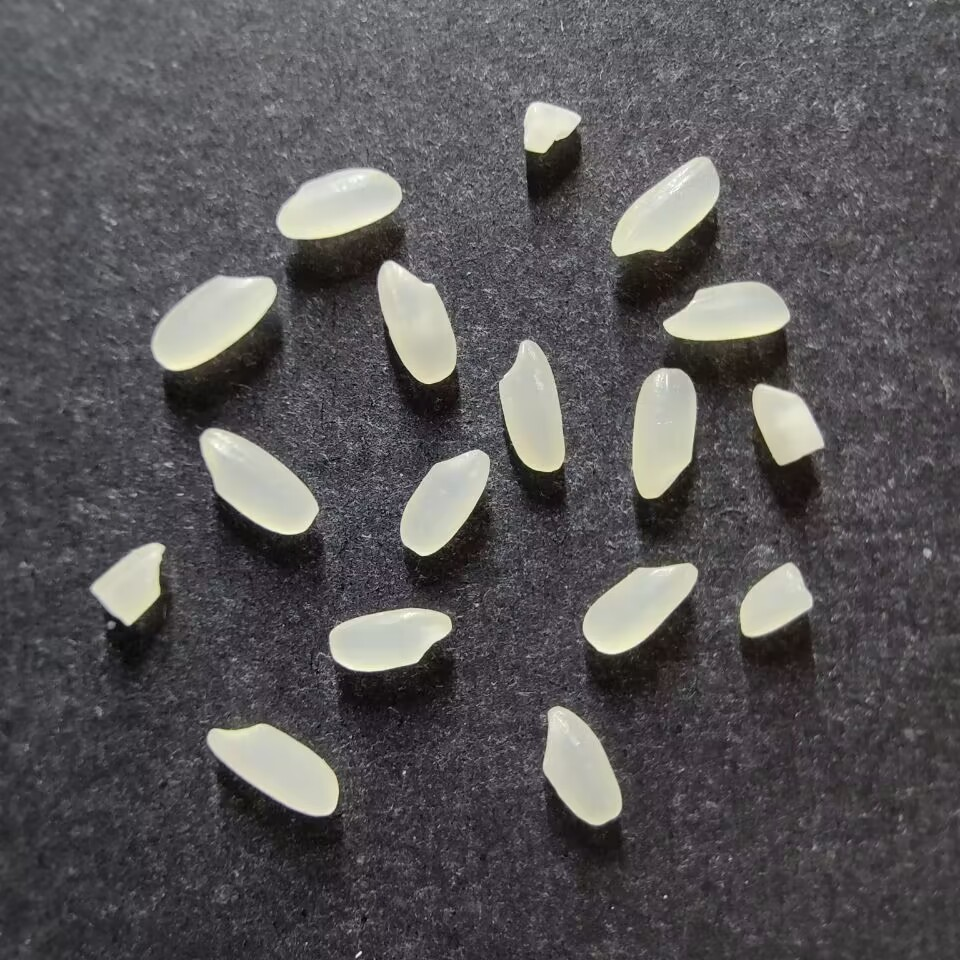broken: (89, 541, 165, 626), (751, 382, 824, 465), (738, 561, 813, 637), (521, 102, 581, 154)
rice: (199, 427, 319, 535), (205, 722, 339, 816), (151, 275, 278, 372), (610, 156, 720, 257), (581, 561, 698, 654), (376, 259, 457, 384), (398, 449, 490, 557), (541, 705, 623, 825), (275, 167, 403, 239), (498, 339, 566, 472), (630, 367, 697, 499), (328, 608, 453, 673), (662, 281, 790, 341)
